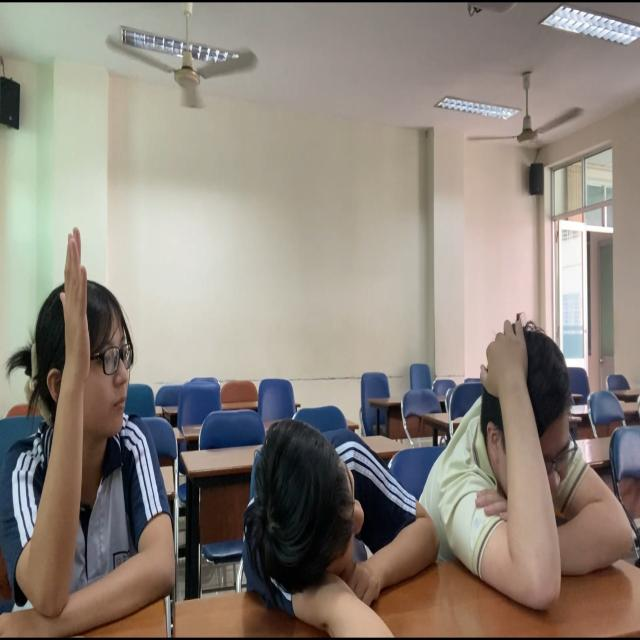raise_hand: (1, 219, 188, 640)
sleep: (440, 315, 637, 592), (240, 401, 433, 624)
